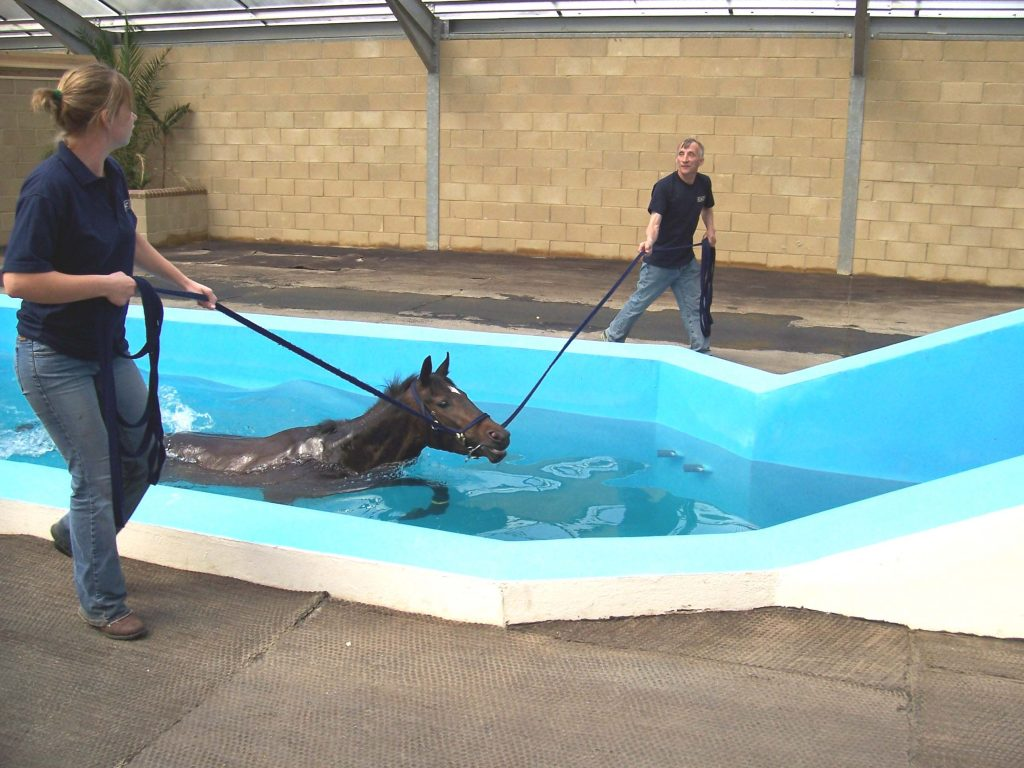Horse: (167, 344, 564, 634)
